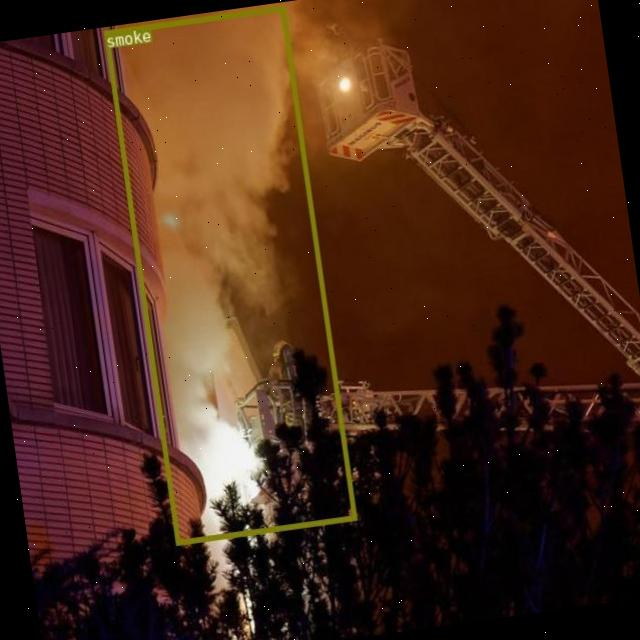smoke: (103, 4, 356, 544)
